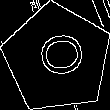O_W: (29, 34, 85, 83)
